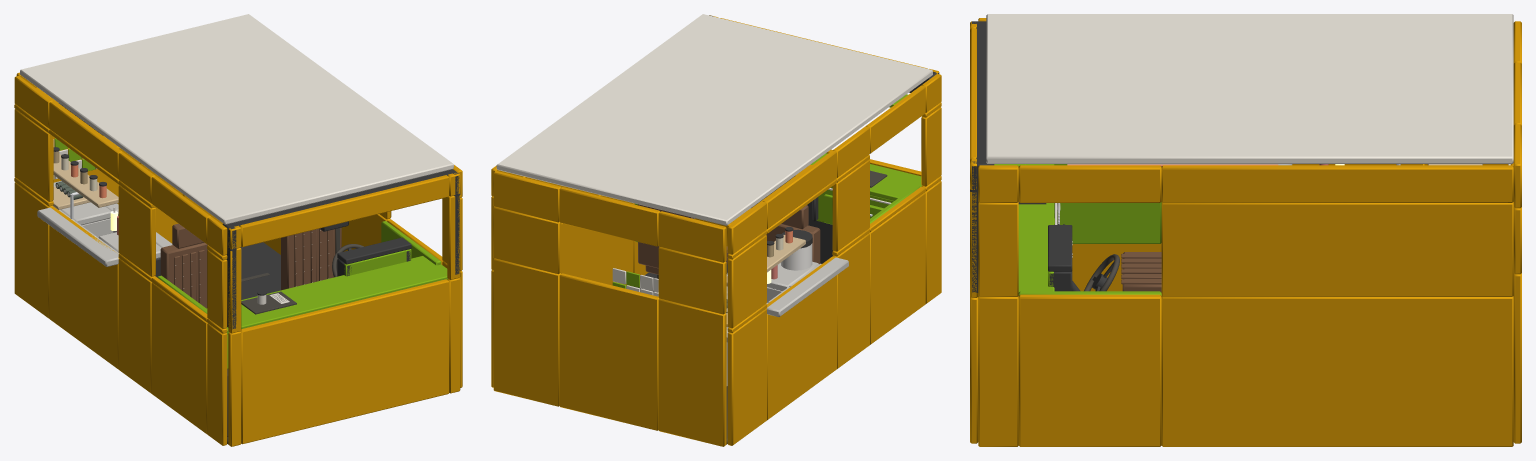
The model's file is pocha-interior.glb.
3 renders of one model, left to right at view 1: azimuth 30°, elevation 25°; view 2: azimuth 150°, elevation 25°; view 3: azimuth 270°, elevation 25°, orthographic. The views are drawn at different scales.
Visible parts, largest first — view 1: pocha_interior; view 2: pocha_interior; view 3: pocha_interior, steering_wheel.
Boxes of the visible parts, x1=… form: pocha_interior: x1=14, y1=14, x2=462, y2=446; pocha_interior: x1=491, y1=14, x2=941, y2=446; pocha_interior: x1=970, y1=14, x2=1521, y2=446; steering_wheel: x1=1084, y1=254, x2=1119, y2=291.
Bounding box in the file's own units: 2.31 × 1.95 × 3.4.
